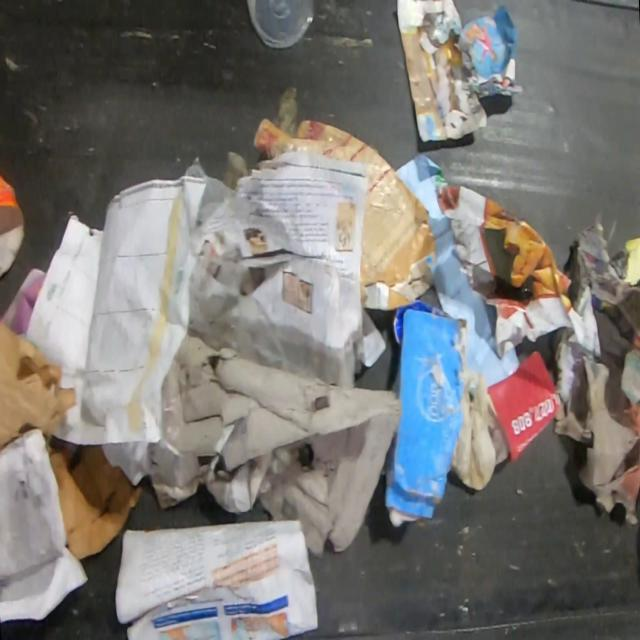cardboard: (148, 333, 402, 559), (252, 116, 437, 312), (384, 299, 468, 530), (552, 352, 639, 528), (395, 0, 490, 143), (45, 435, 145, 562), (448, 2, 525, 100), (0, 172, 26, 282), (622, 235, 640, 288)
rigid_plastic: (243, 0, 316, 51)
soft_plastic: (451, 369, 507, 493)
